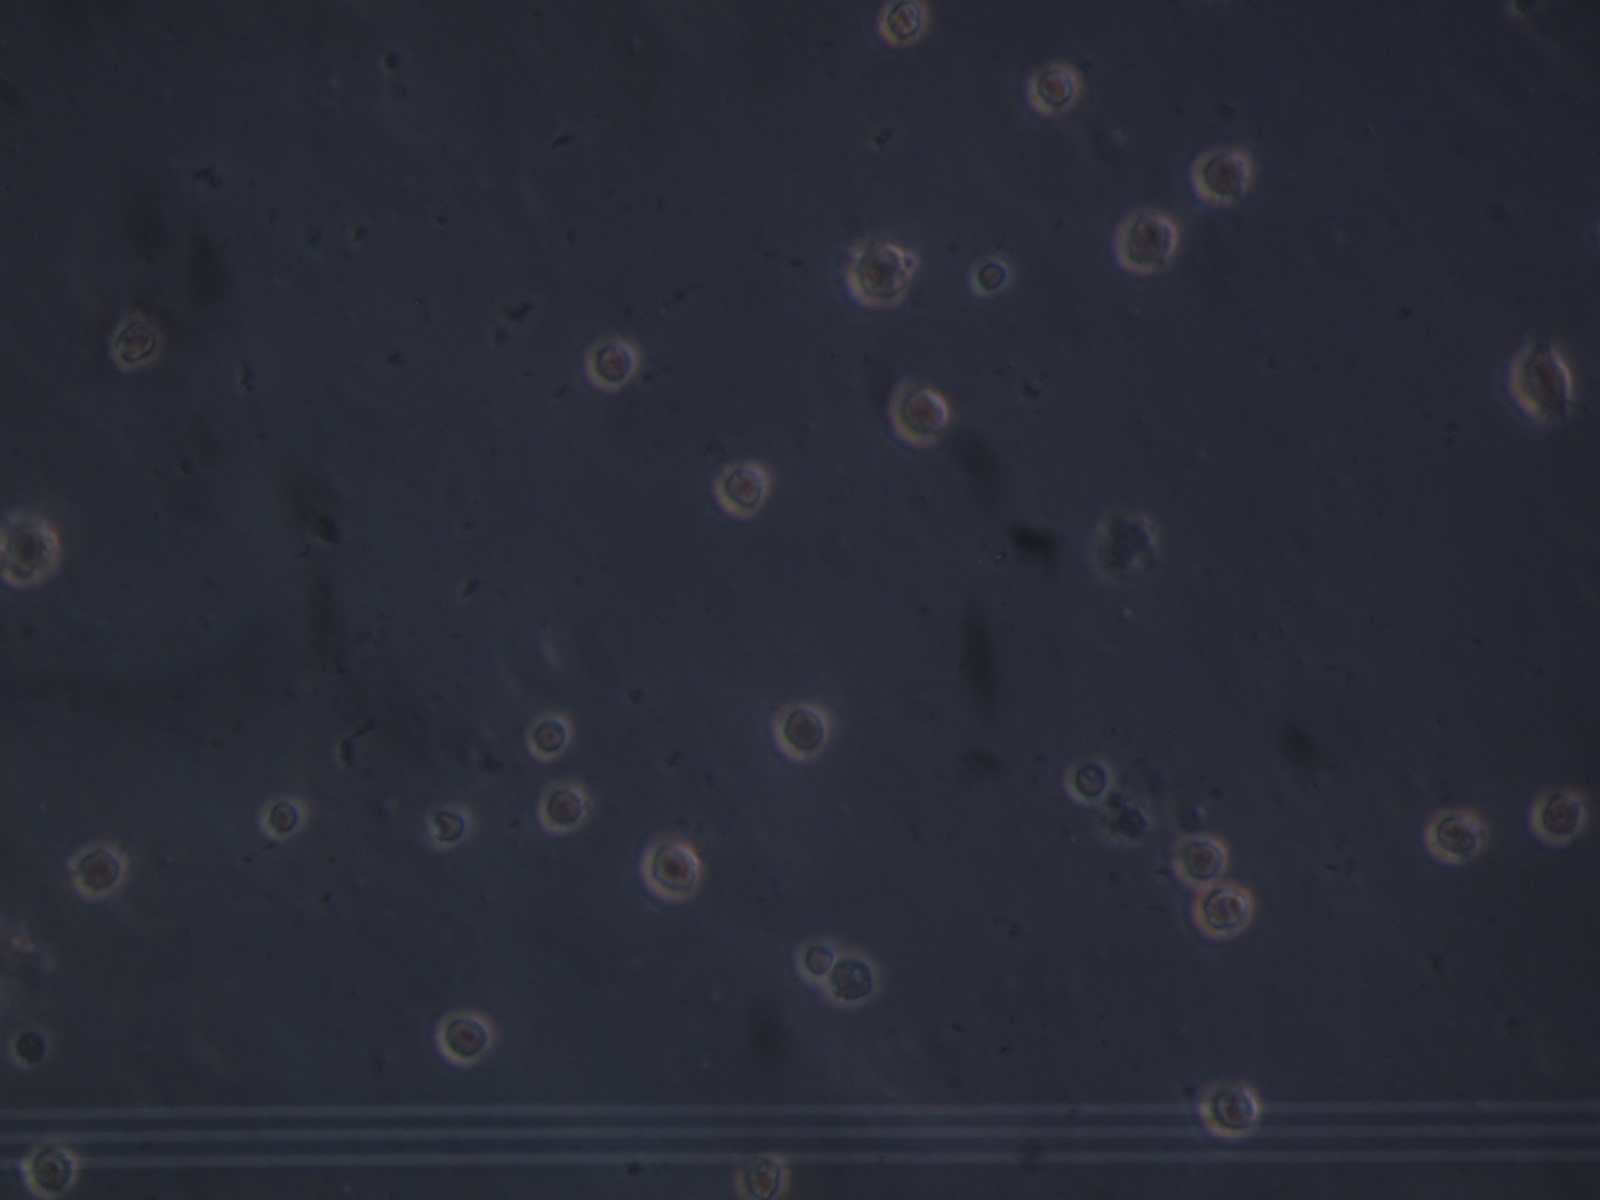hemo: (1509, 345, 1572, 417), (848, 234, 910, 308), (1094, 513, 1157, 584), (1, 511, 55, 587), (1114, 208, 1175, 272), (889, 379, 947, 447), (640, 839, 699, 904), (1192, 881, 1256, 939), (1529, 787, 1587, 848), (772, 703, 830, 765), (1197, 1082, 1259, 1139), (68, 842, 129, 899), (21, 1142, 81, 1199), (1191, 149, 1251, 204), (713, 460, 767, 521), (1427, 807, 1483, 863), (436, 1010, 491, 1066), (1170, 836, 1230, 887), (113, 313, 165, 372), (586, 334, 639, 391), (734, 1150, 792, 1200), (421, 799, 472, 851), (830, 952, 878, 1007), (1065, 753, 1112, 807), (523, 713, 573, 763), (539, 782, 586, 834), (1032, 64, 1081, 113), (878, 1, 931, 45), (260, 793, 306, 838), (792, 938, 837, 982), (966, 257, 1010, 297)
